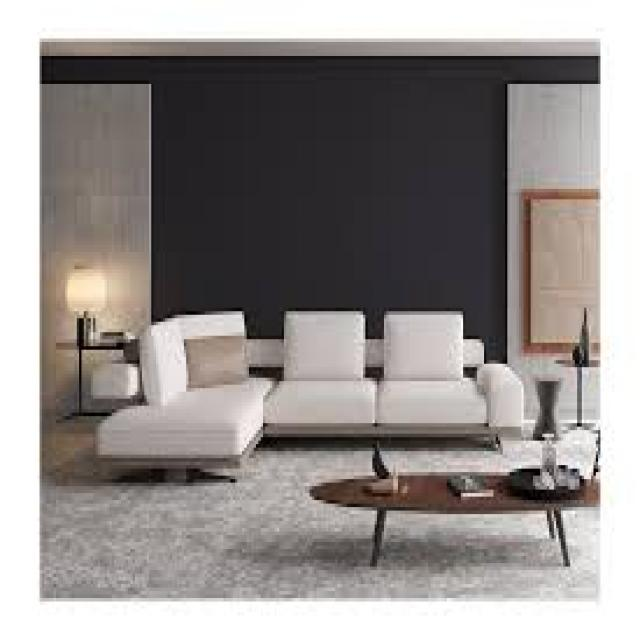Sofa: (80, 294, 554, 506)
